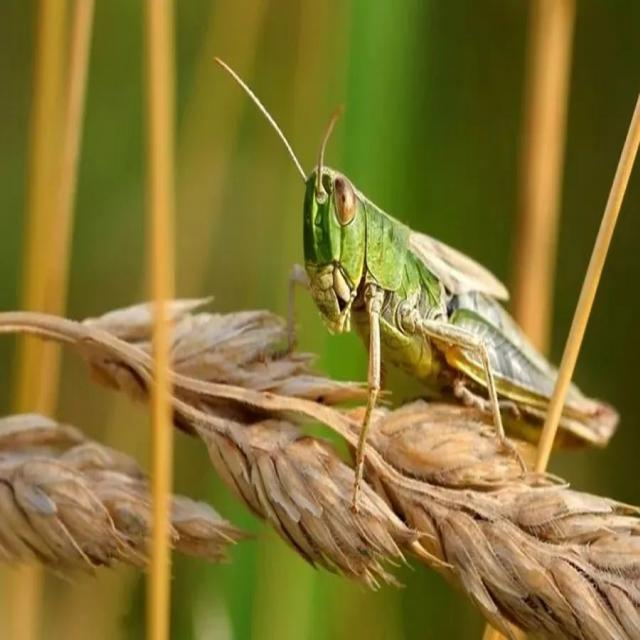ZhaMeng: (209, 55, 612, 527)
